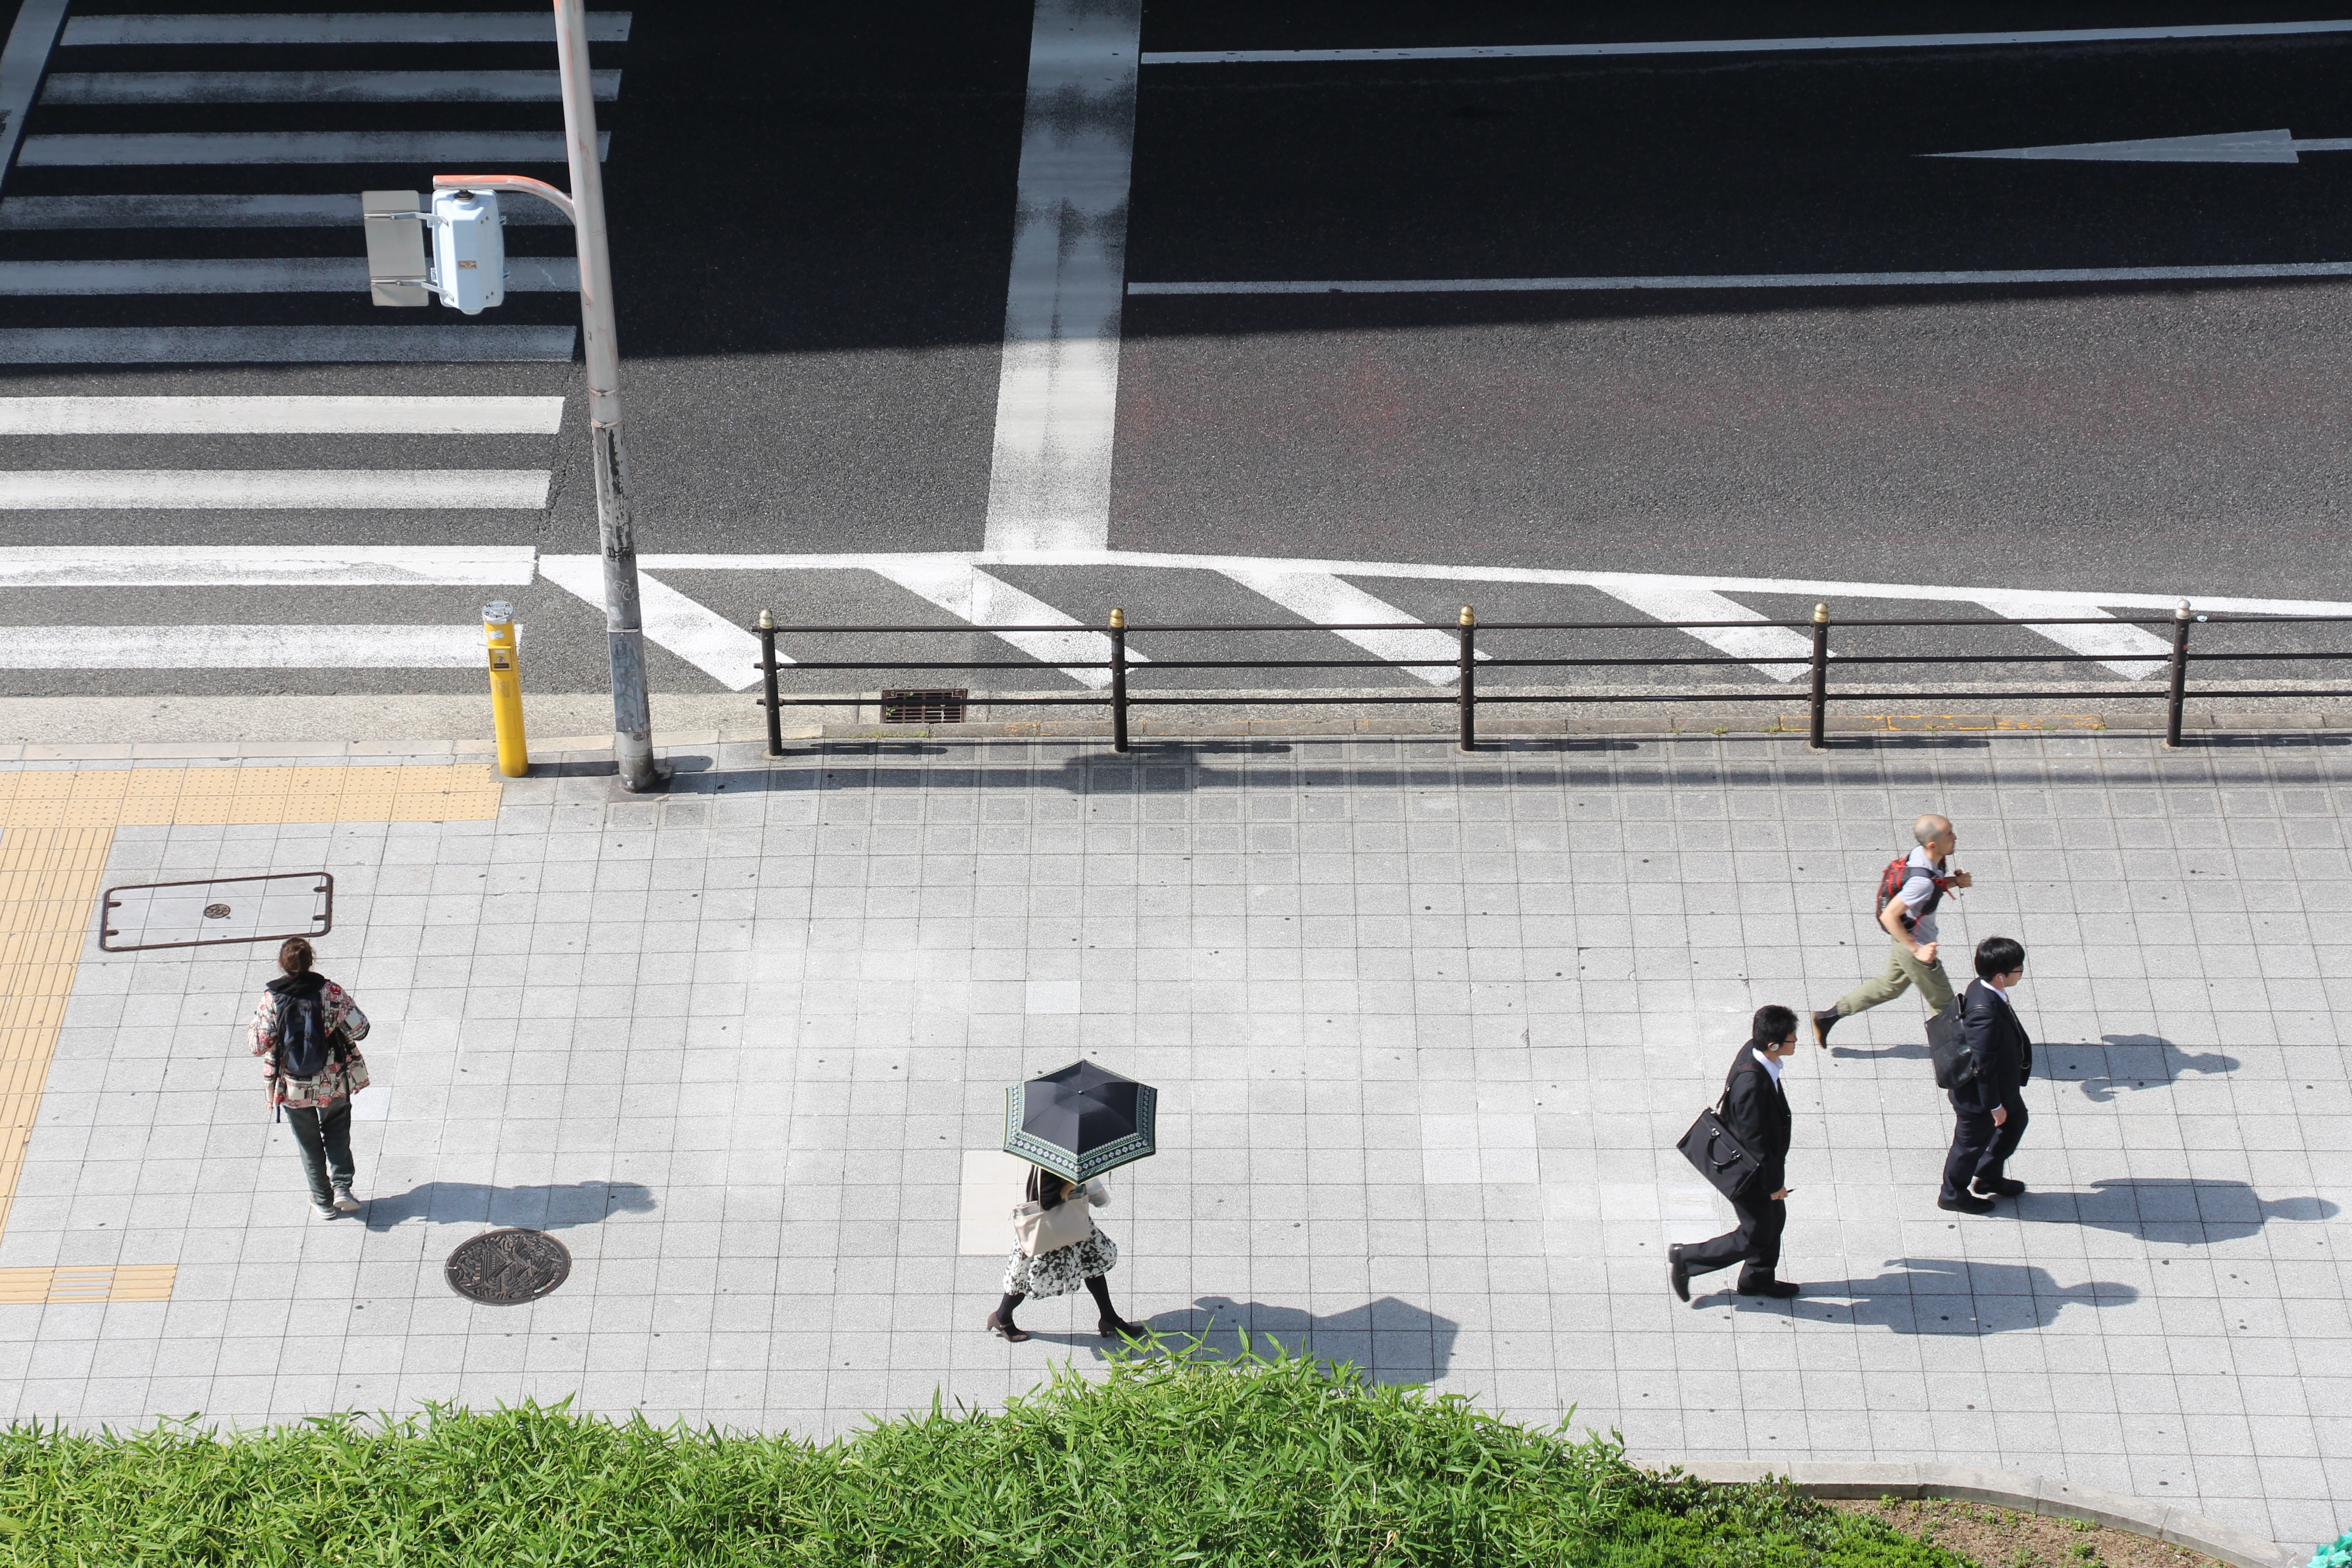person: (1664, 992, 1815, 1308), (987, 1068, 1151, 1350), (1807, 811, 1975, 1053), (245, 935, 382, 1221), (1951, 931, 2040, 1215)
